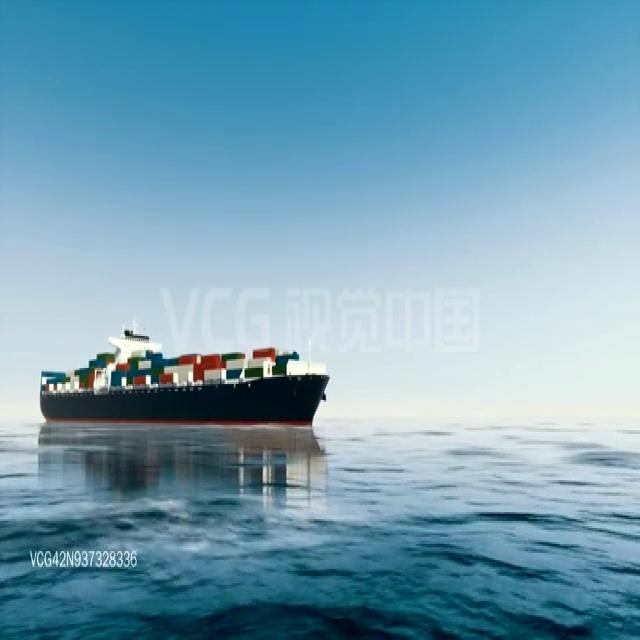cargoship: (28, 324, 329, 429)
